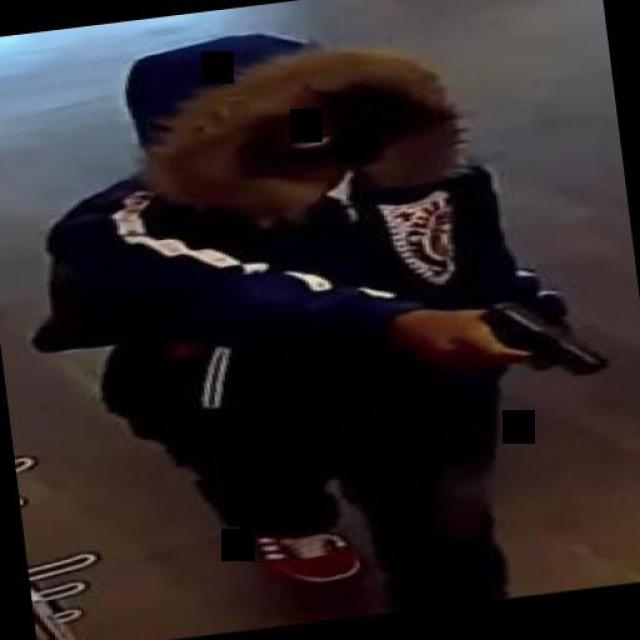gun: (444, 287, 601, 388)
